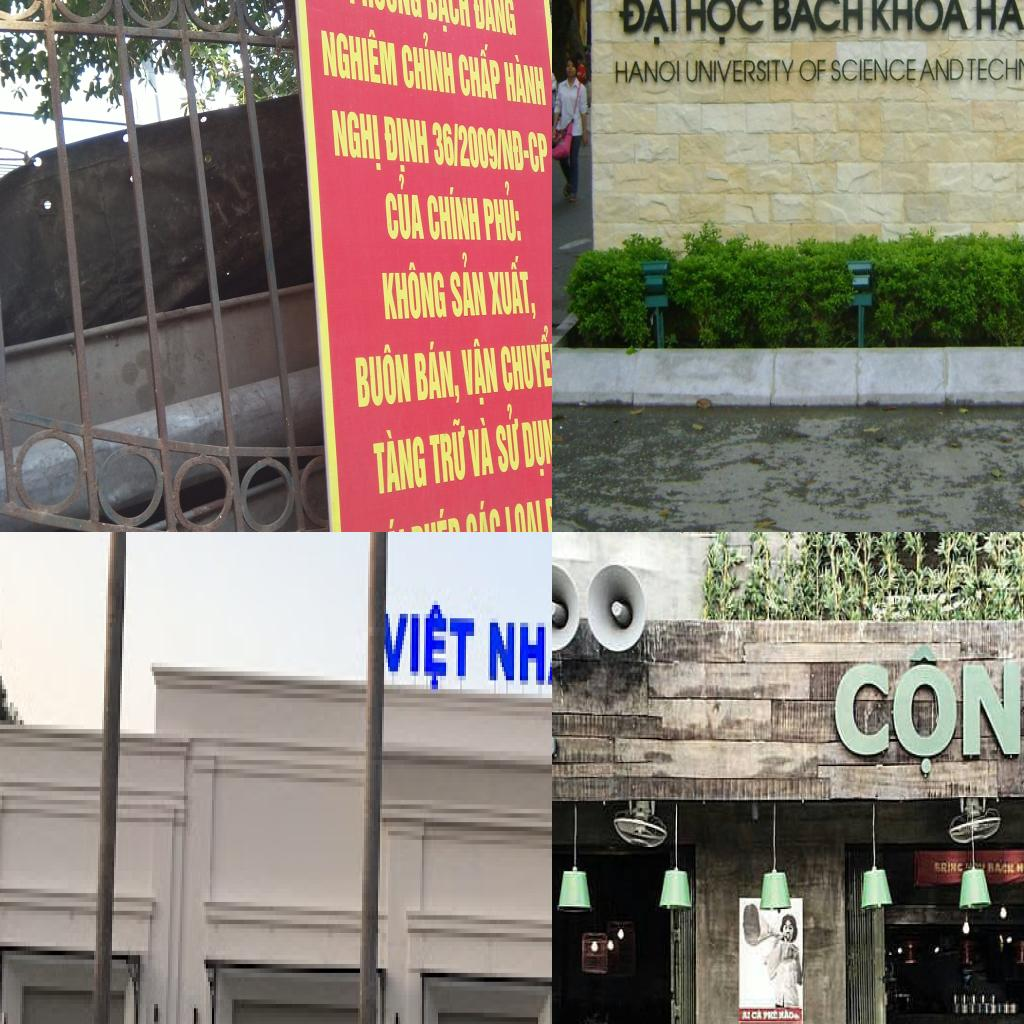text: (834, 643, 1024, 776), (382, 601, 480, 698), (484, 604, 552, 711), (318, 22, 401, 91), (379, 260, 448, 321), (399, 25, 457, 97), (371, 423, 428, 496), (496, 322, 552, 394), (351, 342, 412, 408), (683, 0, 767, 47), (331, 104, 383, 177), (410, 337, 462, 407), (487, 254, 537, 323), (456, 335, 500, 410), (870, 0, 970, 33), (771, 0, 865, 35), (425, 185, 482, 242), (424, 415, 467, 487), (382, 110, 430, 174), (616, 0, 680, 48), (456, 41, 501, 106), (685, 58, 796, 84), (446, 251, 488, 319), (502, 50, 548, 110), (385, 172, 426, 238), (480, 179, 522, 242), (830, 57, 919, 84), (492, 402, 522, 474), (520, 415, 552, 480), (468, 0, 517, 40), (465, 415, 495, 479), (614, 57, 682, 85), (344, 0, 423, 24), (424, 0, 472, 39), (457, 124, 497, 170), (973, 0, 1024, 32), (406, 503, 461, 532), (503, 496, 546, 532), (462, 496, 504, 532), (966, 57, 1024, 81), (431, 115, 455, 169), (918, 57, 965, 83), (500, 128, 524, 172), (528, 128, 550, 176), (357, 515, 408, 532), (798, 59, 827, 84), (987, 860, 1015, 876), (452, 118, 460, 171), (496, 127, 502, 171), (940, 860, 952, 874), (752, 1009, 763, 1021), (741, 1010, 752, 1021), (1016, 861, 1024, 875), (523, 148, 529, 160)
